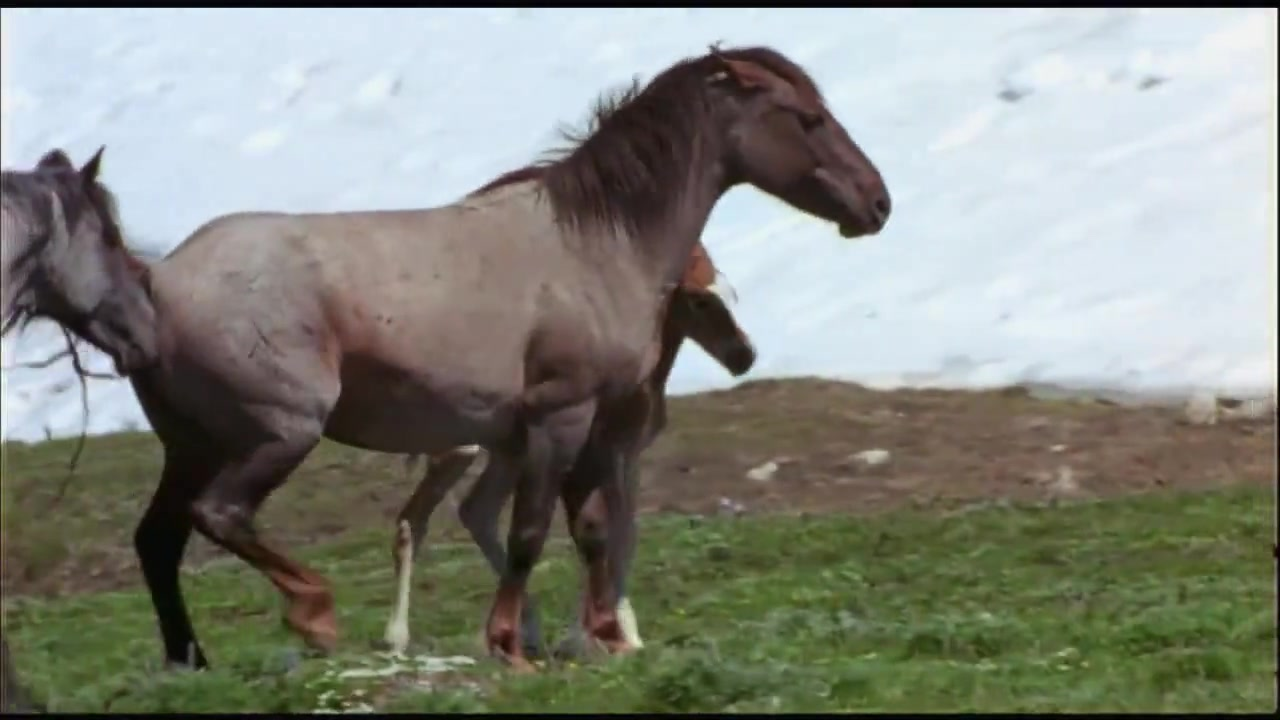horse: (121, 43, 895, 685)
